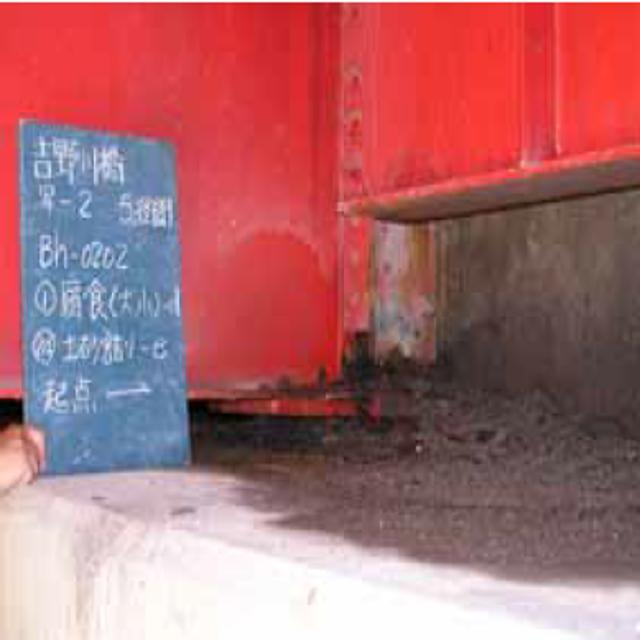corrosion: (224, 284, 449, 452)
